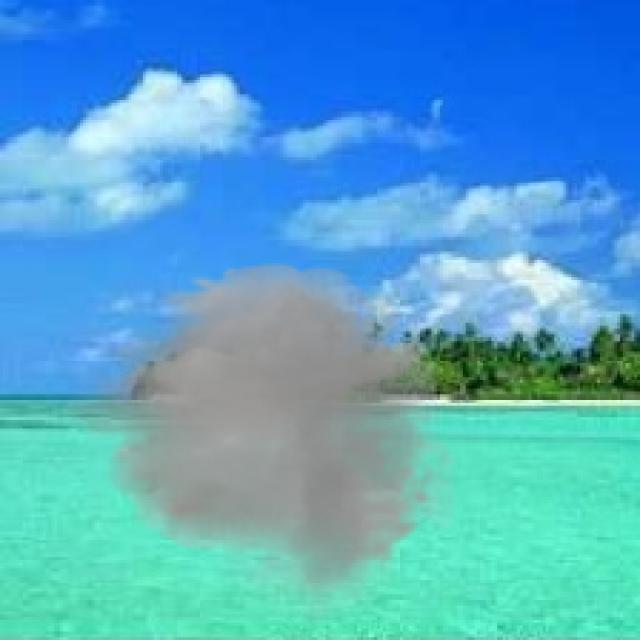smoke: (57, 254, 474, 623)
